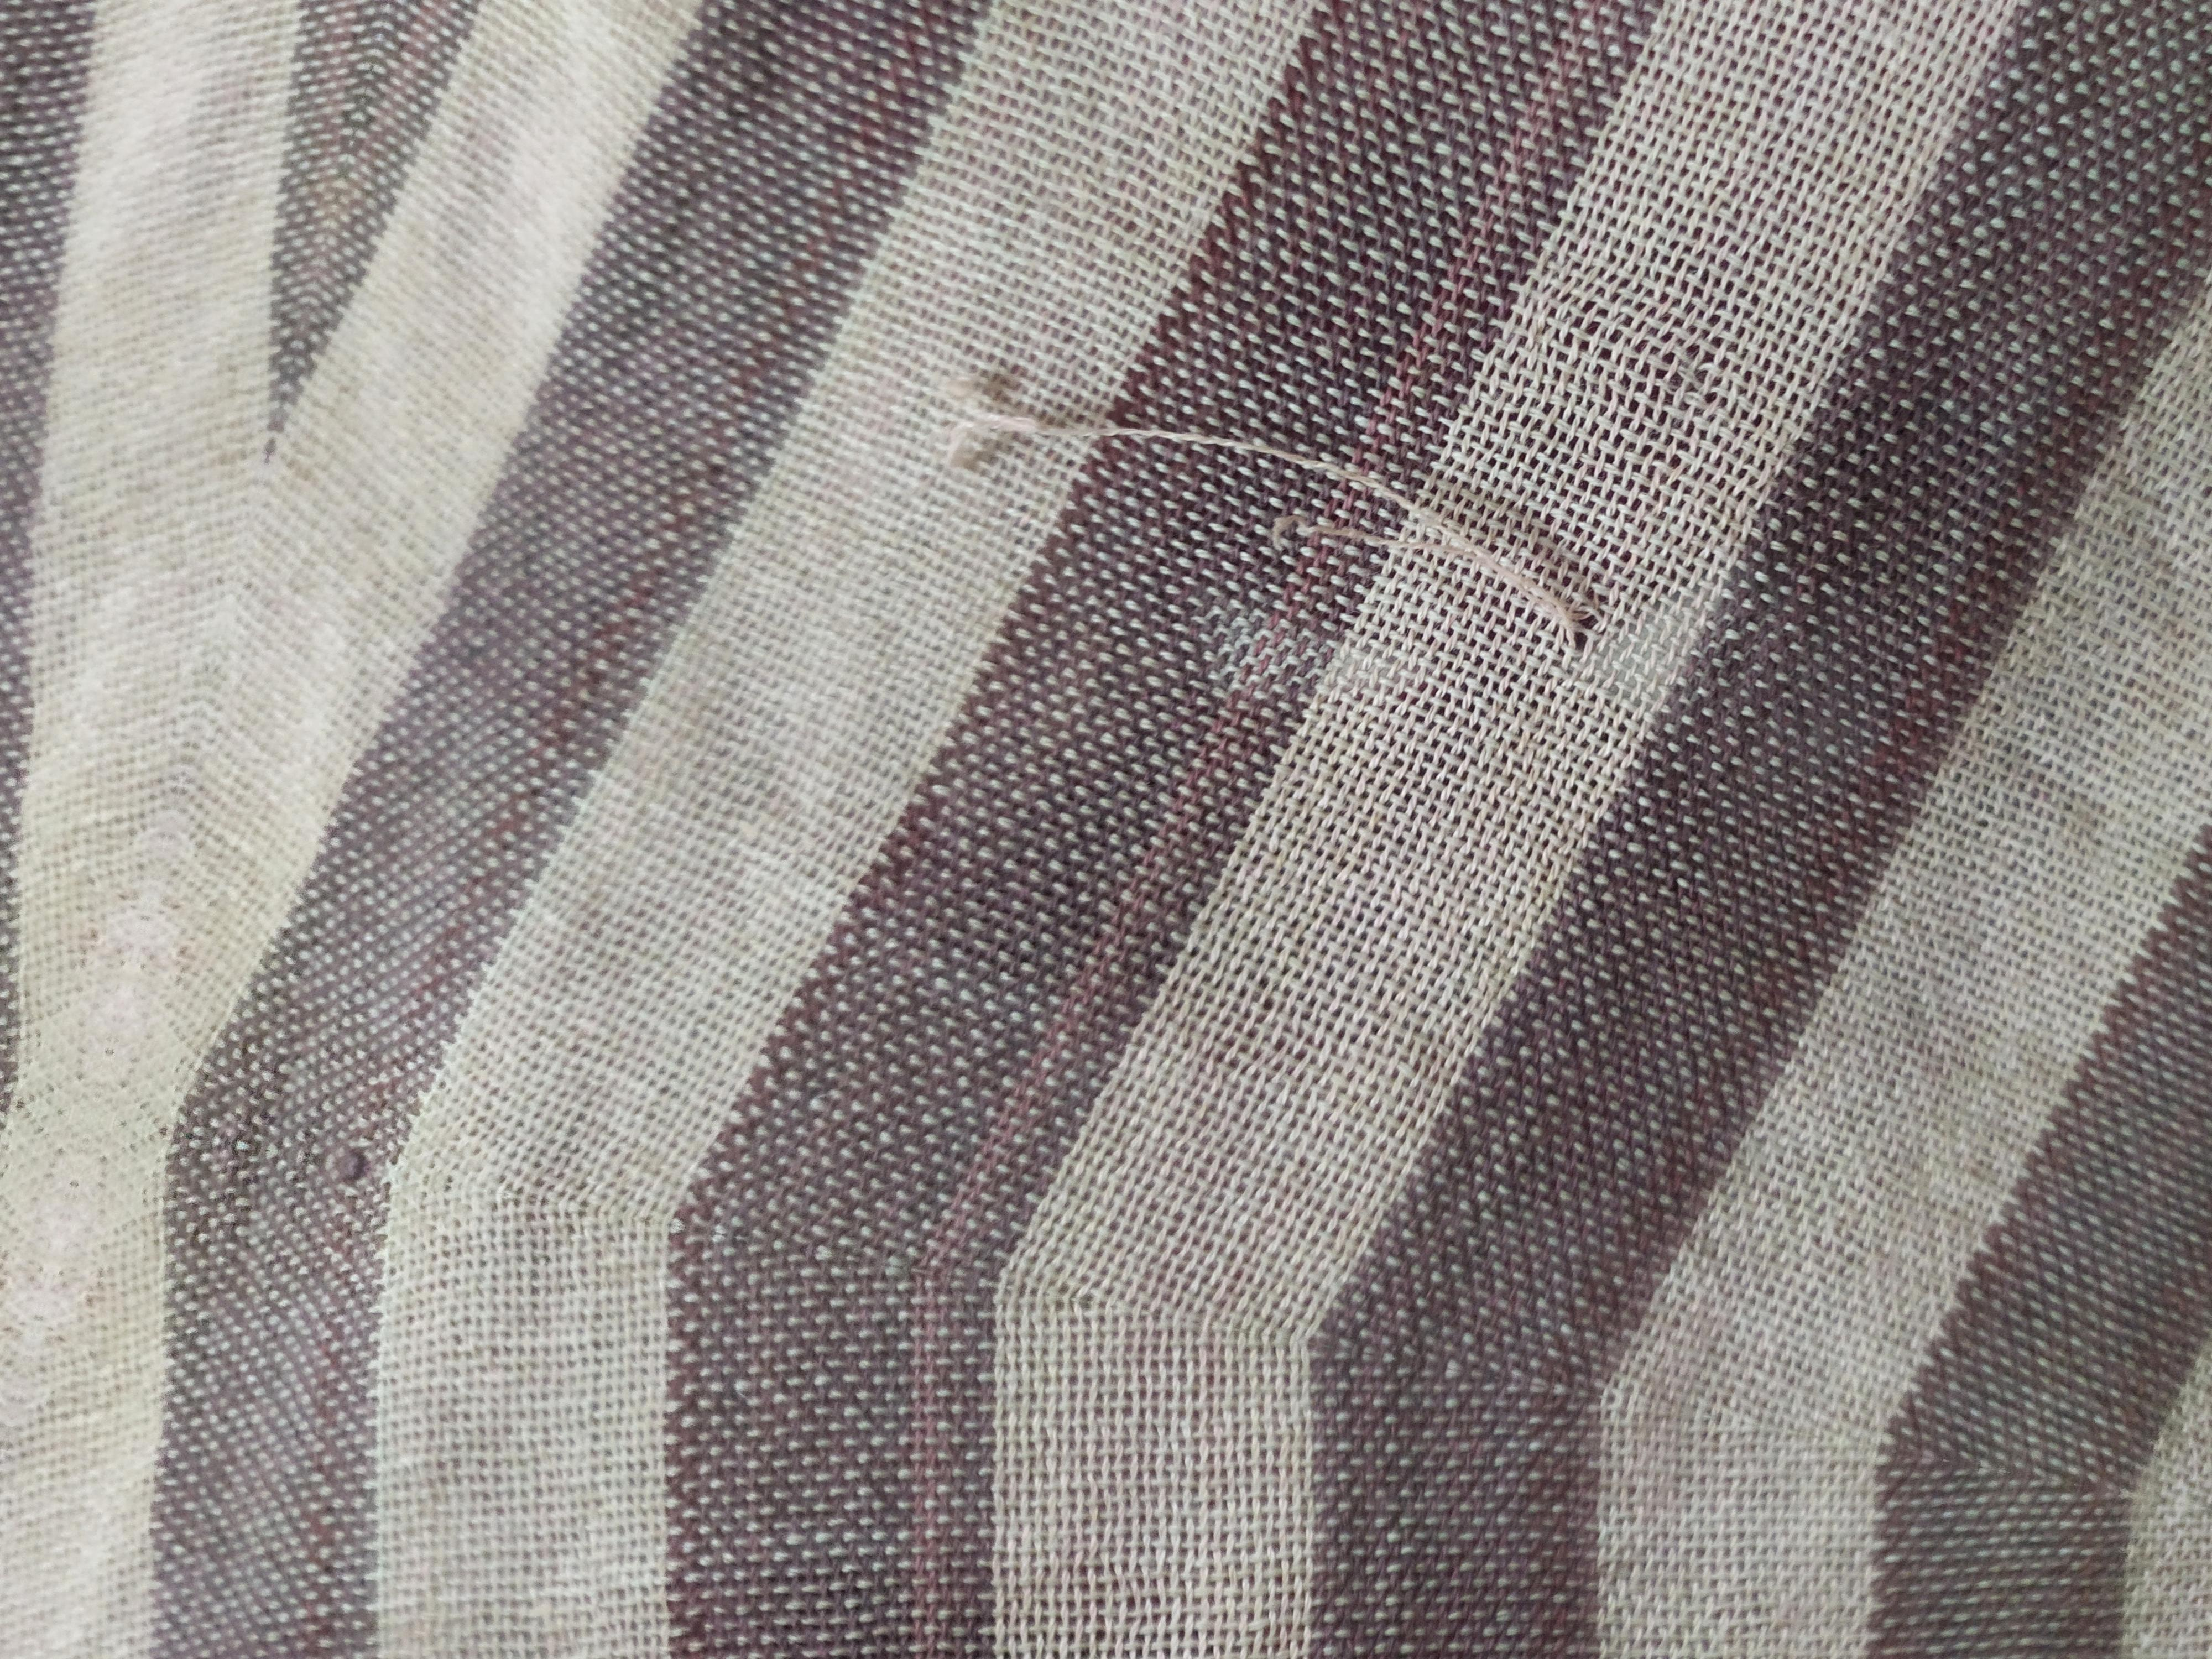snag: (899, 251, 1660, 702)
